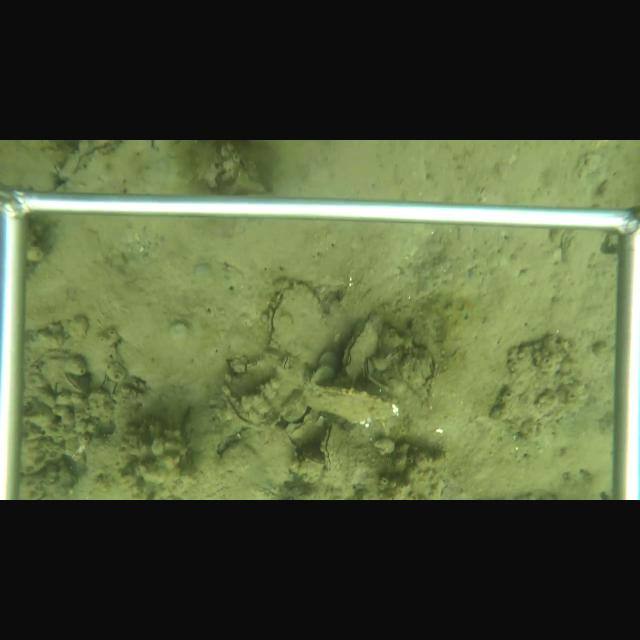Oyster-Closed: (305, 382, 411, 428), (269, 280, 325, 357), (342, 307, 387, 384), (221, 379, 274, 430), (400, 343, 442, 398), (319, 420, 353, 486), (63, 370, 87, 395)
